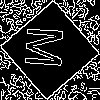M: (25, 25, 73, 70)
